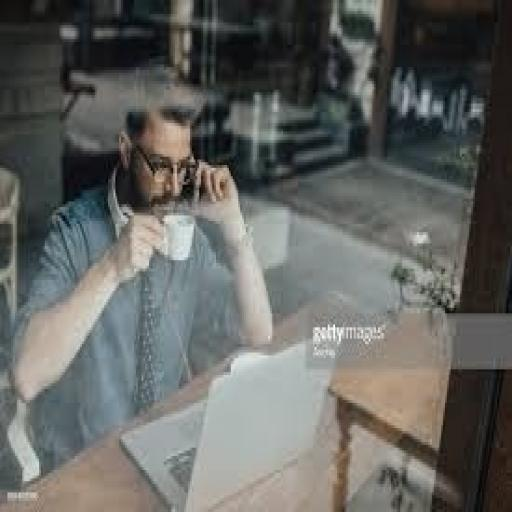calling: (8, 95, 276, 476)
